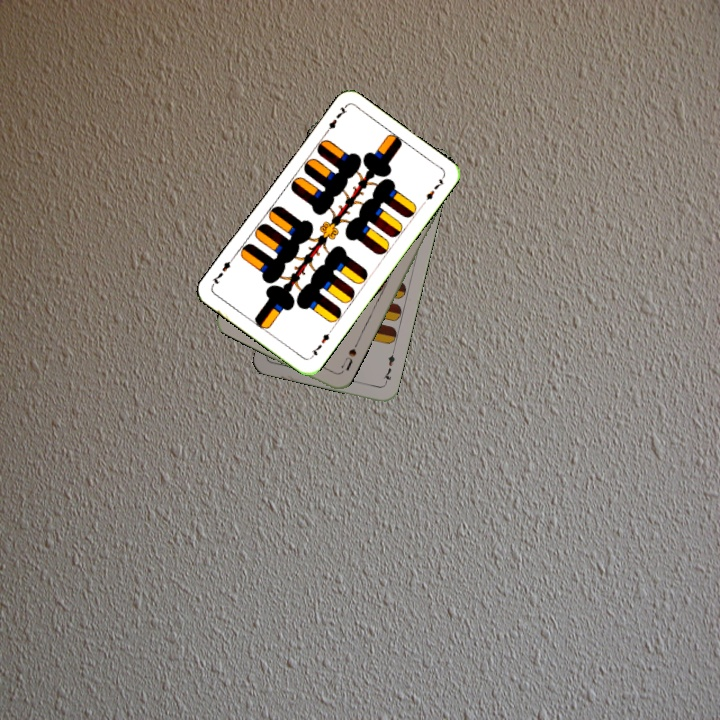E7: (320, 102, 350, 138), (306, 326, 335, 361), (379, 347, 398, 387)
SU: (336, 344, 359, 376)
